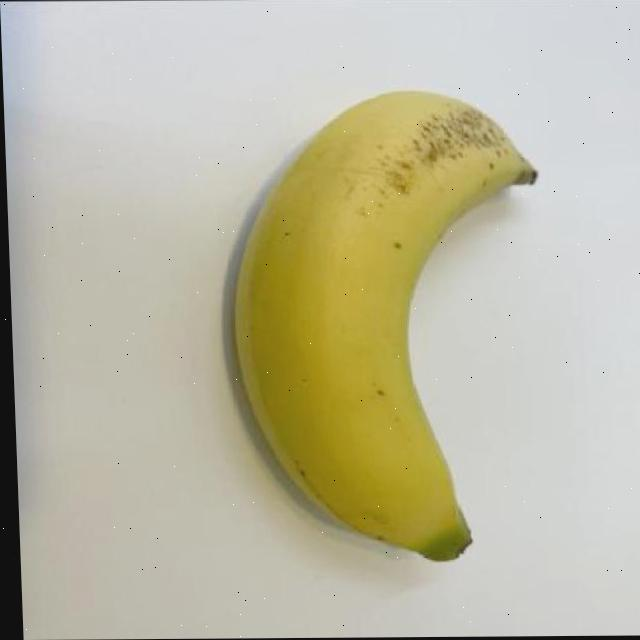banana: (219, 88, 557, 572)
